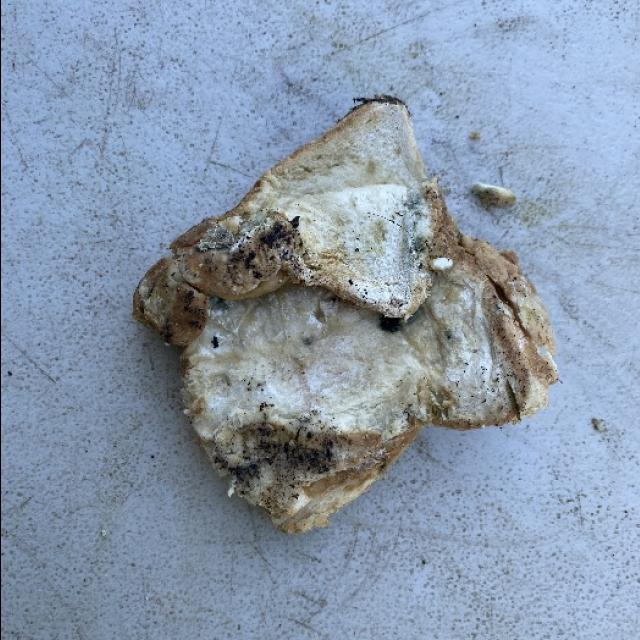organik: (120, 123, 540, 565)
